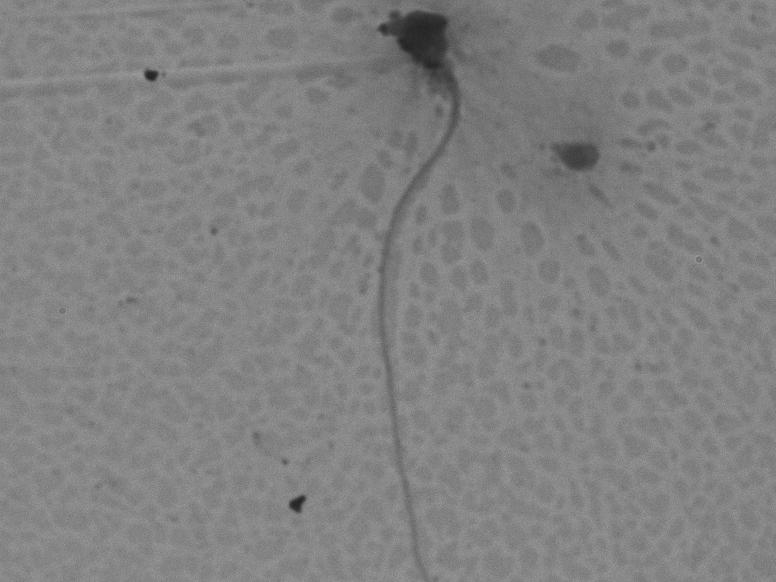Abnormal: (302, 2, 523, 569)
